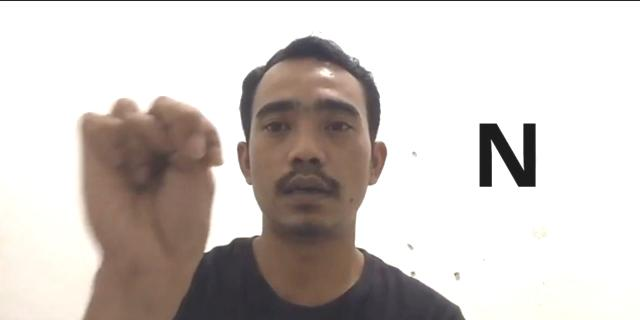N: (70, 88, 226, 272)
